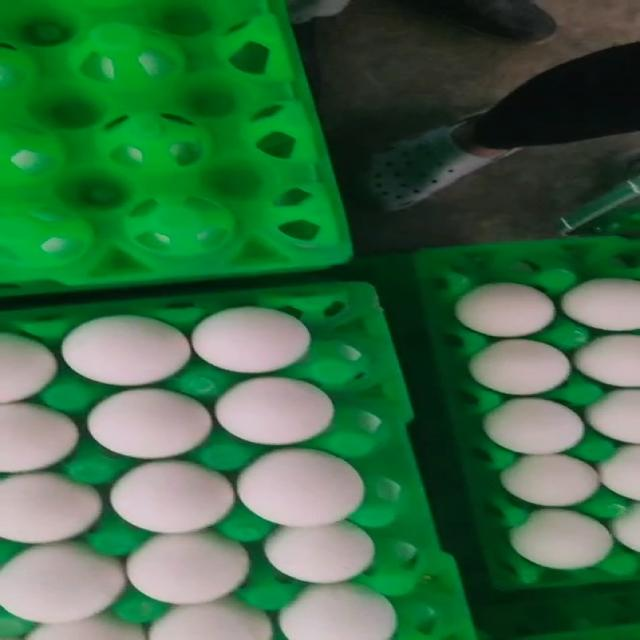egg_tray: (0, 284, 454, 639), (0, 0, 348, 289), (420, 238, 639, 587), (477, 581, 639, 639), (458, 616, 462, 623), (461, 605, 462, 606)
